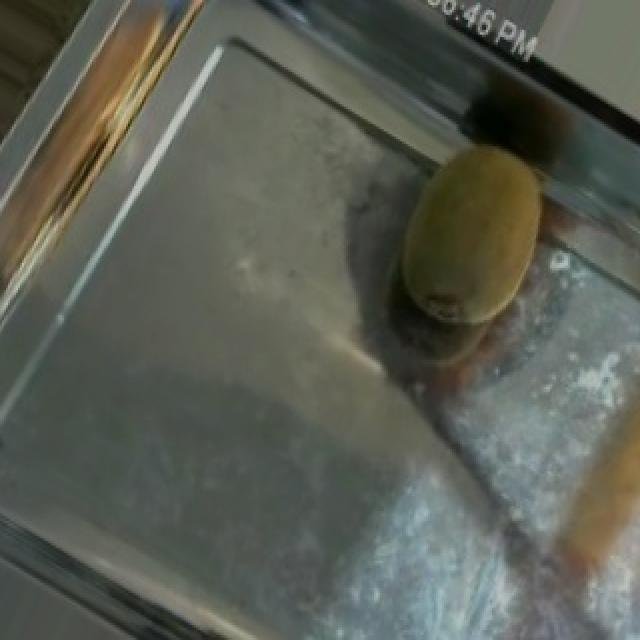Fruit: (362, 109, 578, 360), (518, 357, 640, 640)
